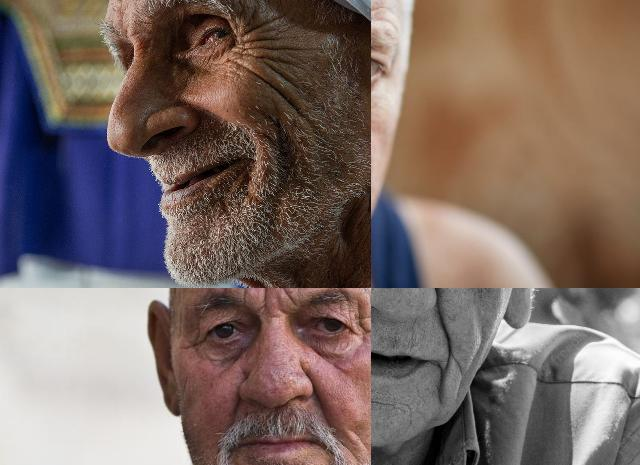chin: (371, 392, 412, 414)
crows_feet: (238, 16, 284, 56), (182, 326, 206, 358), (352, 310, 371, 349)
forehead: (371, 0, 390, 14)
frown_line: (255, 288, 275, 312), (279, 288, 299, 308), (235, 288, 249, 306)
gummy_smile: (430, 288, 456, 354), (312, 386, 332, 426), (224, 393, 242, 429)
masseter: (256, 72, 308, 124), (348, 426, 369, 454)
sad_smile: (434, 367, 448, 405)
